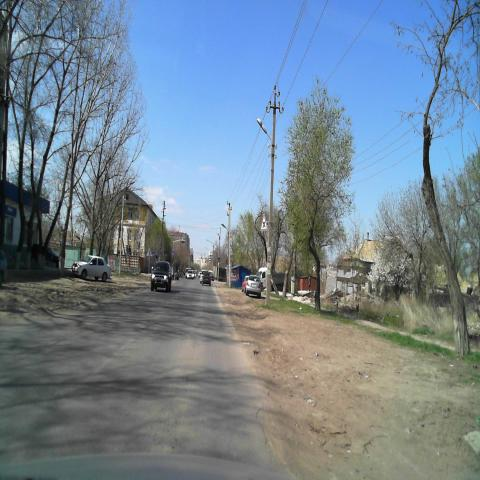1_6: (260, 213, 268, 231)
